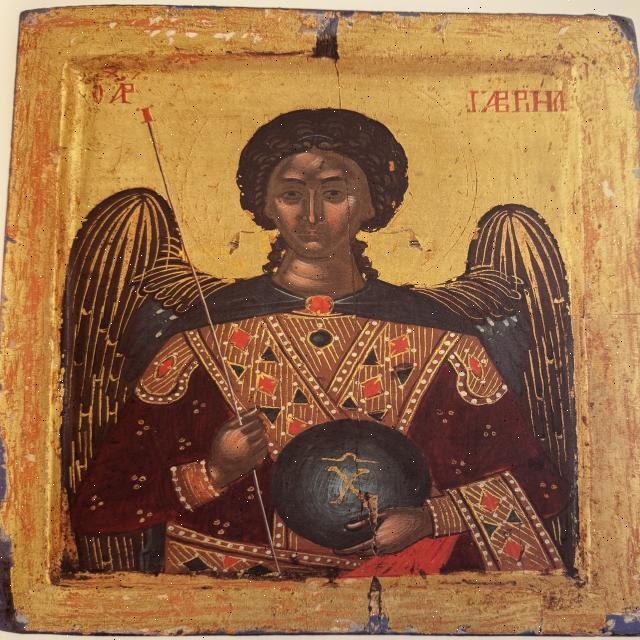angel: (48, 62, 588, 570)
aura: (183, 78, 483, 276)
scepter: (134, 108, 284, 579)
shield: (276, 420, 437, 548)
wing: (54, 189, 184, 579), (462, 204, 582, 568)
